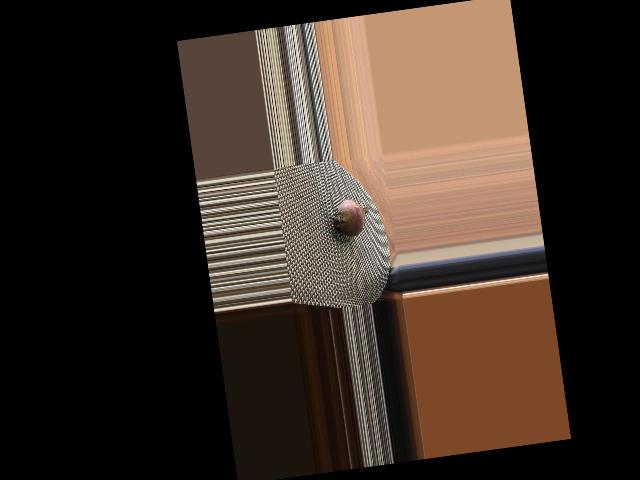beet: (327, 190, 379, 244)
